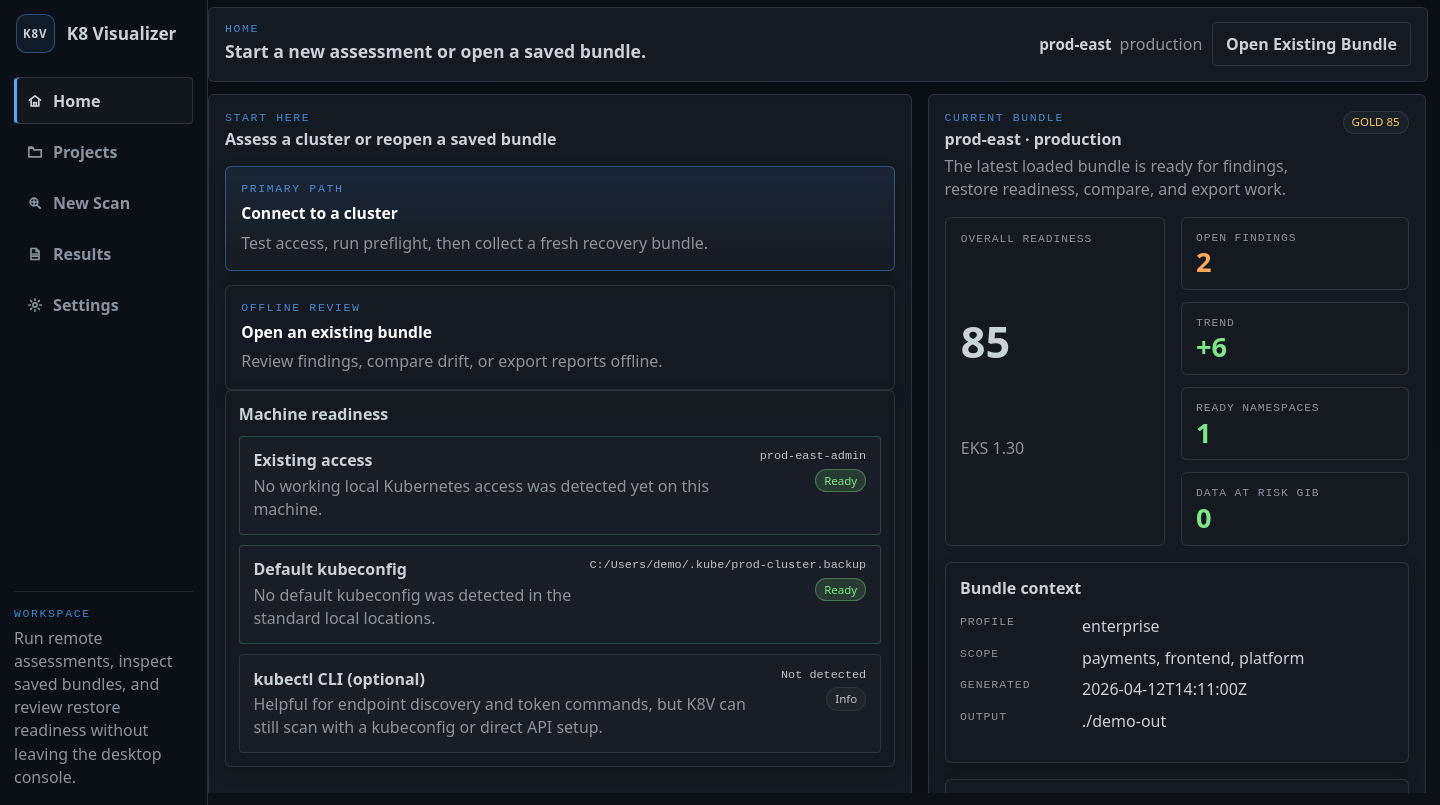
Test: desktop shell › does not prompt when scan setup was only auto-populated by the connection advisor
Step 1. Click the button "New Scan" → (104, 203), box [14,179,193,226]
(page scrolled)
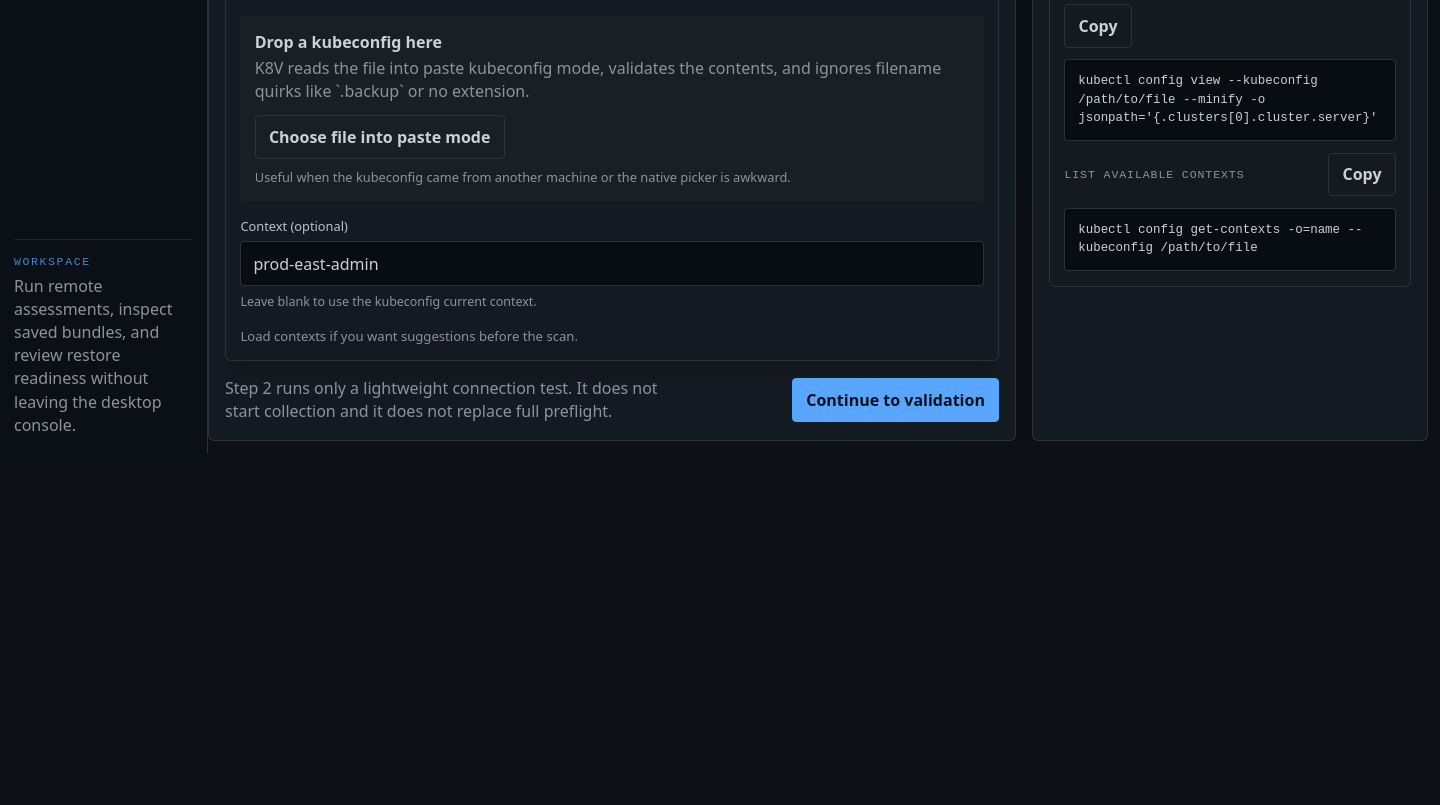
Step 2. Click the button "Continue to validation" → (896, 400), box [792,378,999,422]
(page scrolled)
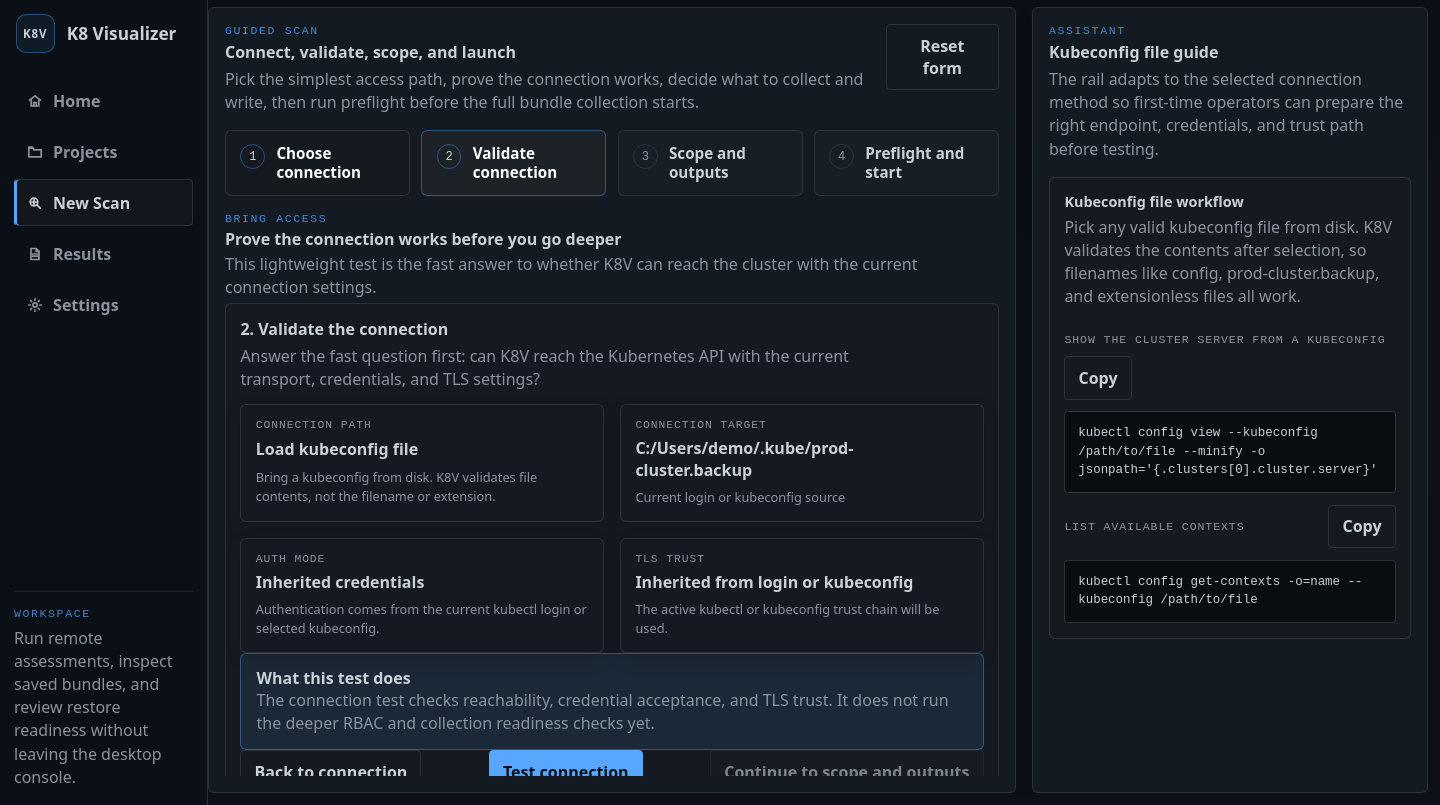
Step 3. Click the button "Home" → (104, 101), box [14,77,193,124]
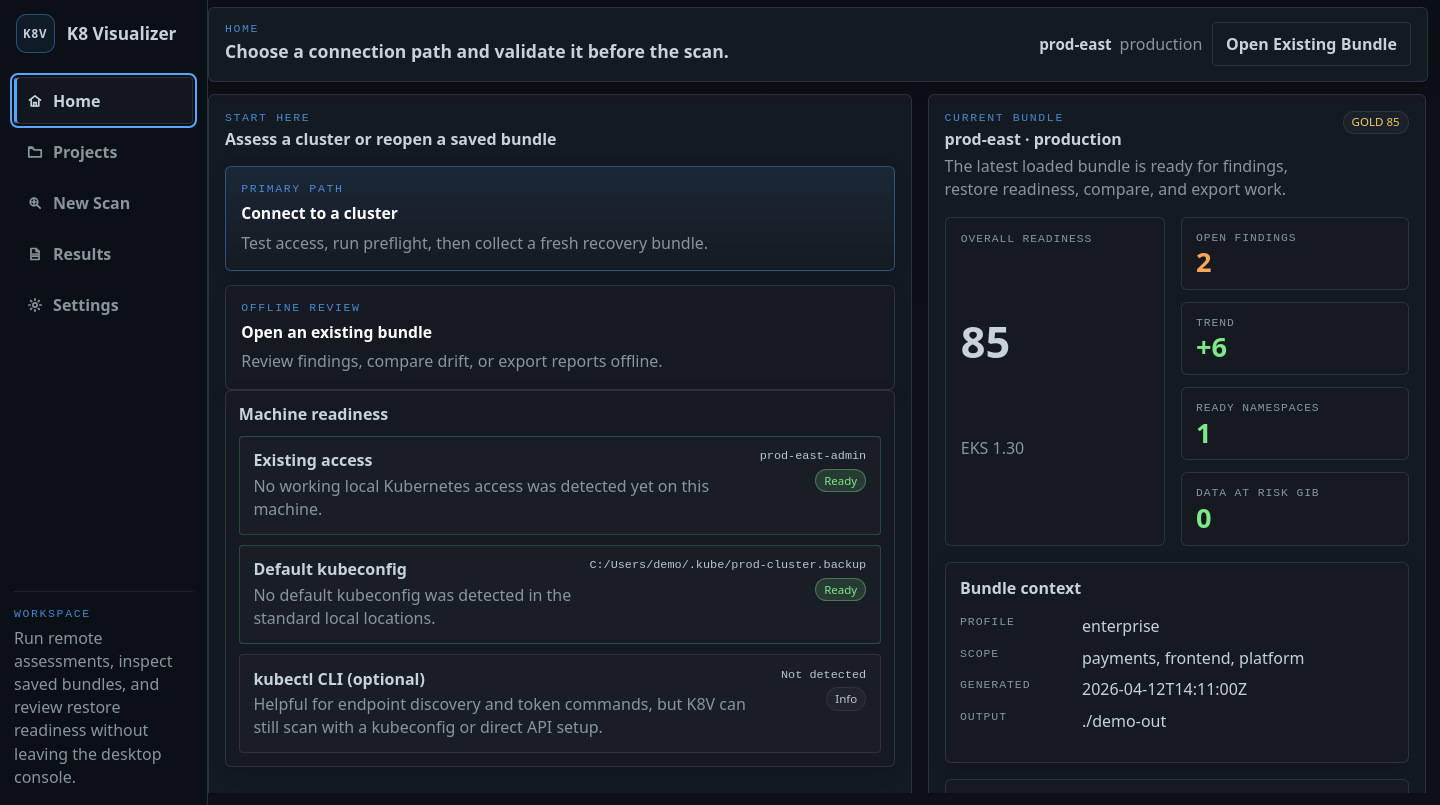
Check: the heading "Assess a cluster or reopen a saved bundle" is shown, box [225,128,556,150]
